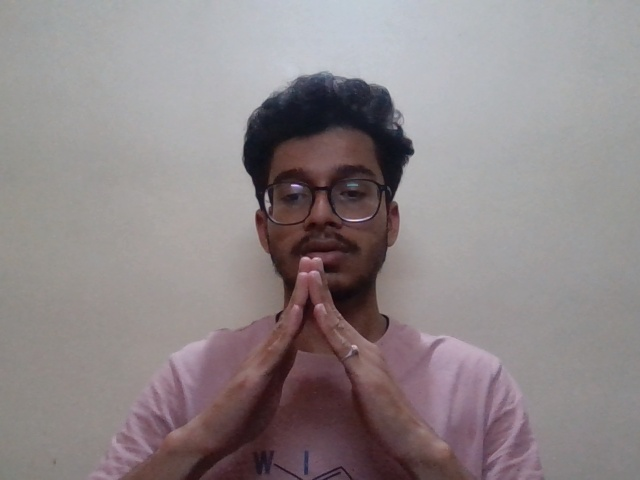home: (211, 254, 454, 457)
